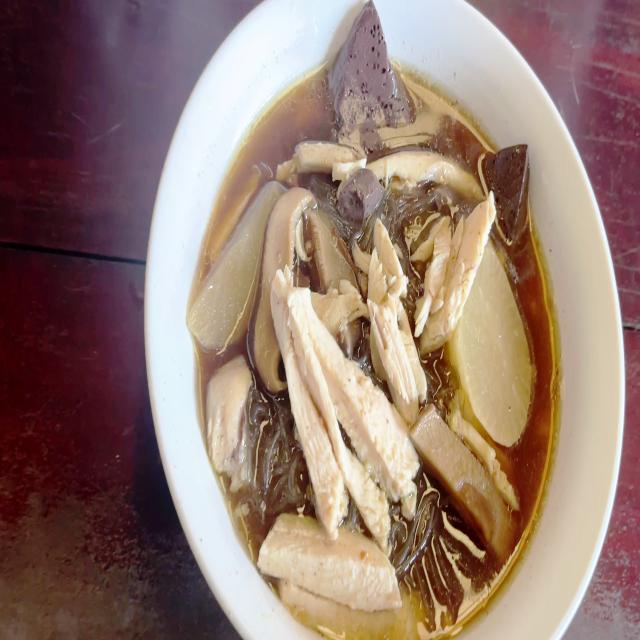boiled_chicken_blood_jelly: (326, 0, 411, 130), (476, 142, 530, 225), (337, 167, 382, 217)
chicken_shredded: (273, 276, 402, 514), (260, 522, 395, 604), (421, 188, 494, 334), (364, 228, 420, 413), (374, 154, 480, 199), (210, 370, 254, 470), (289, 140, 365, 178)
daikon_radish: (194, 186, 274, 347), (463, 268, 530, 442)
noodle: (194, 57, 546, 634)
